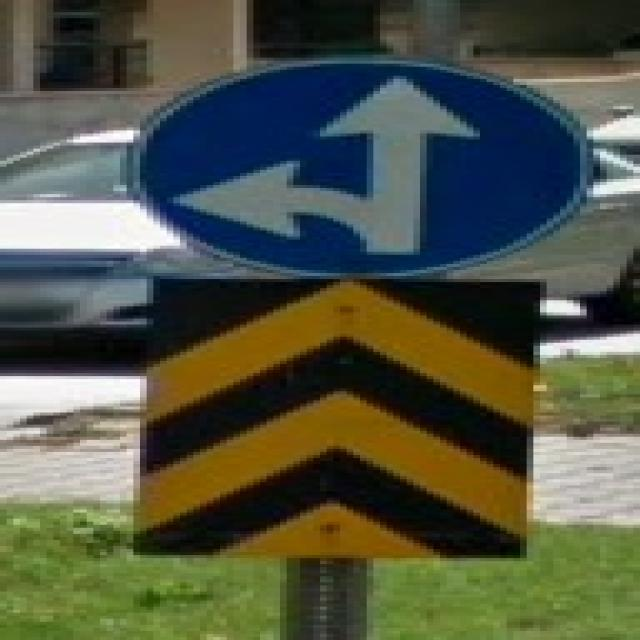Straight or Left: (131, 57, 591, 276)
